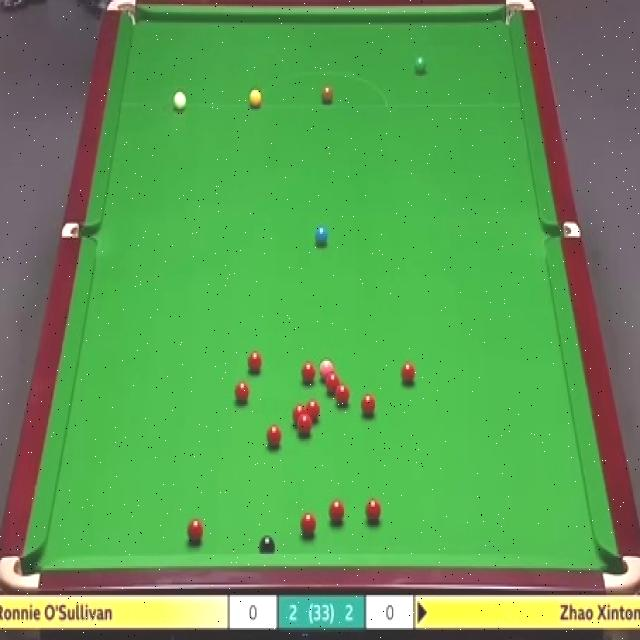black-ball: (260, 534, 278, 554)
blue-ball: (314, 227, 329, 244)
brown-ball: (322, 86, 334, 108)
green-ball: (416, 56, 426, 71)
pink-ball: (319, 359, 334, 379)
red-ball: (329, 496, 345, 525), (305, 399, 322, 425), (300, 512, 317, 538), (186, 518, 203, 543), (400, 359, 416, 384), (269, 424, 285, 448), (366, 500, 382, 522), (234, 383, 250, 404), (248, 350, 261, 375), (298, 414, 312, 436), (360, 396, 376, 414), (300, 362, 314, 382), (326, 372, 340, 392), (336, 386, 348, 408), (292, 406, 306, 424)
white-ball: (174, 92, 186, 112)
yellow-ball: (249, 88, 262, 109)
